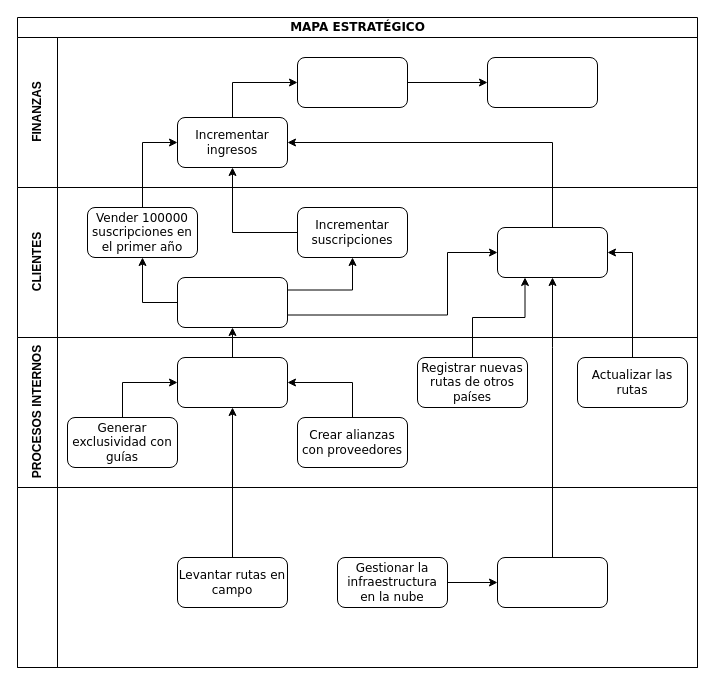
The diagram is 715 pixels wide and 685 high, and some of its shapes have lost their labels. Each missing label, with the box of its shape:
APRENDIZAJE Y CONOCIMIENTO: (16, 486, 698, 668)
Contar con una base de datos actualizada: (176, 356, 288, 408)
Gestionar excedentes de liquidez: (296, 56, 408, 108)
Implementar un modelo predictivo: (496, 556, 608, 608)
Incrementar la fidelización: (496, 226, 608, 278)
Obtener una alta calificación de satisfación: (176, 276, 288, 328)
Optimizar recursos: (486, 56, 598, 108)
